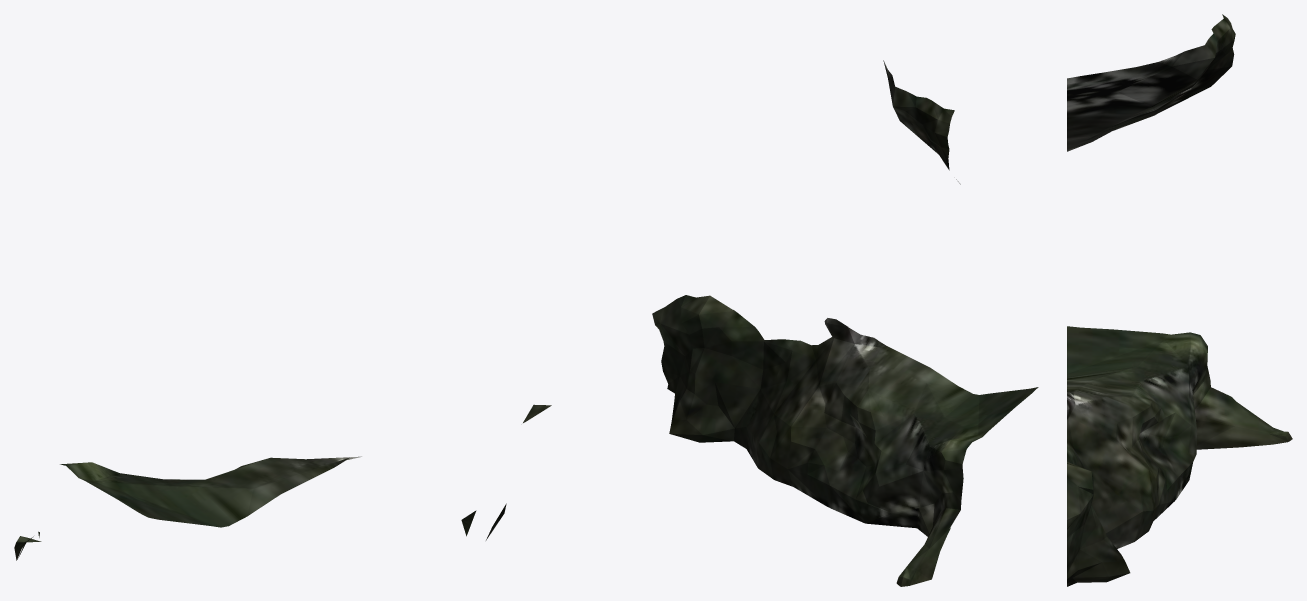
3 renders of one model, left to right at view 1: azimuth 30°, elevation 25°; view 2: azimuth 150°, elevation 25°; view 3: azimuth 270°, elevation 25°, orthographic. The views are drawn at different scales.
Bounding box in the file's own units: 1.5 × 1.67 × 0.8201.
Materials: 1 (1 with a texture image).
